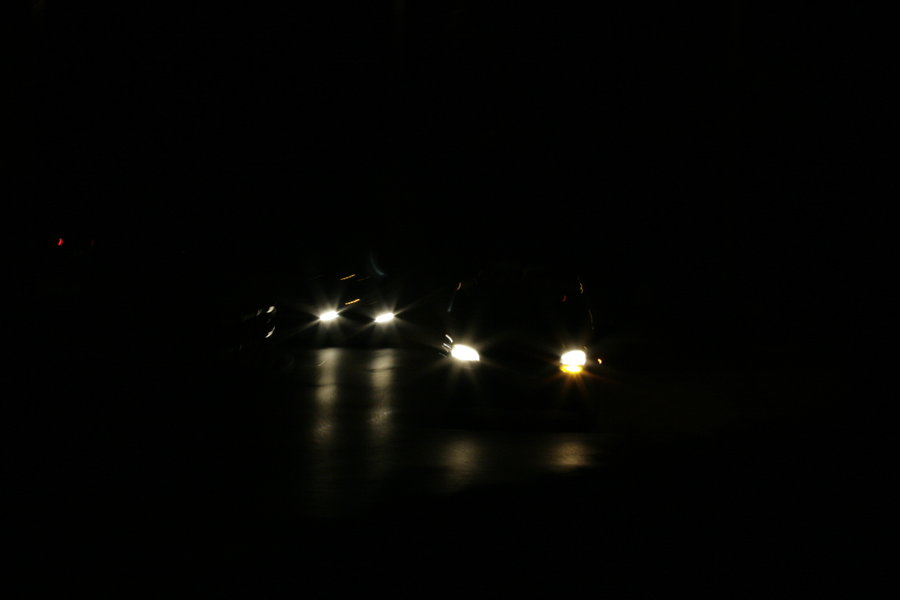car: (310, 247, 421, 351)
